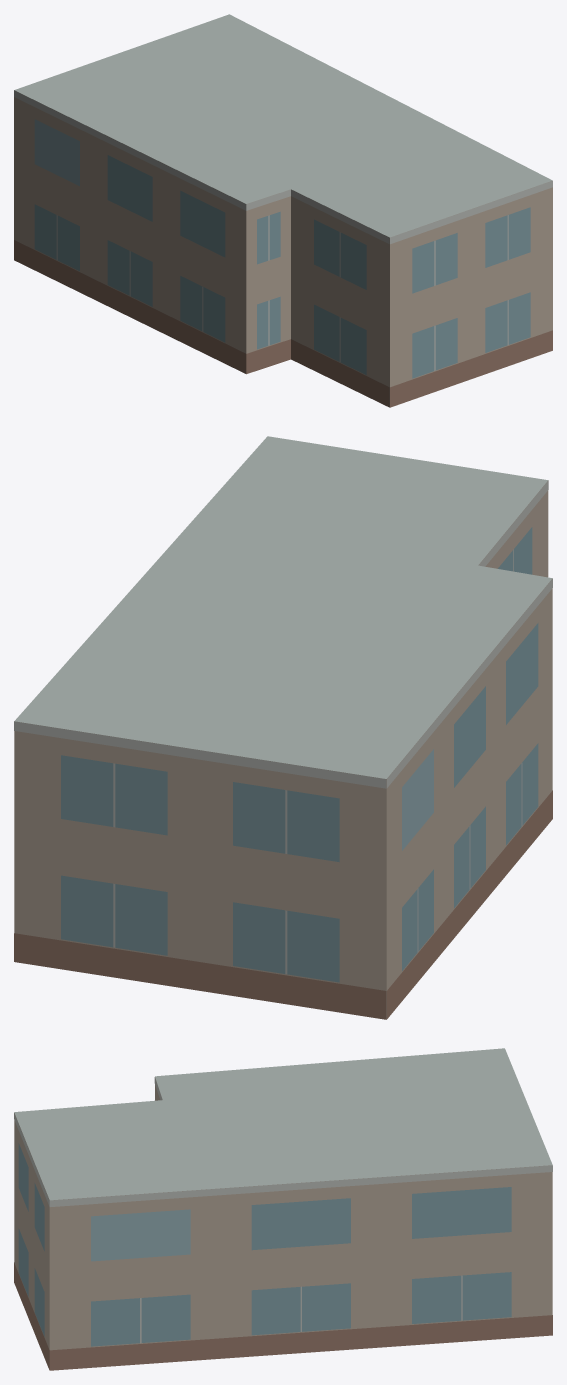
The model's file is survey-upis-32561426.glb.
The picture shows the model from 3 angles, top to bottom: view 1: azimuth 30°, elevation 25°; view 2: azimuth 150°, elevation 25°; view 3: azimuth 270°, elevation 25°; orthographic projection. The views are drawn at different scales.
Visible parts, largest first — view 1: survey-upis-32561426.tmp; view 2: survey-upis-32561426.tmp; view 3: survey-upis-32561426.tmp.
Part boxes in pixels (x1=…): survey-upis-32561426.tmp: x1=14, y1=14, x2=552, y2=407; survey-upis-32561426.tmp: x1=14, y1=436, x2=552, y2=1019; survey-upis-32561426.tmp: x1=14, y1=1048, x2=552, y2=1370.
Bounding box in the file's own units: 11.7 × 6.1 × 17.5.
